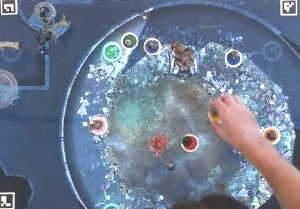blue: (225, 47, 244, 68)
green: (121, 31, 140, 50)
orange: (263, 122, 283, 146)
pink: (90, 113, 111, 135)
red: (180, 131, 203, 153)
violet: (144, 34, 164, 58)
yellow: (206, 104, 225, 126)
